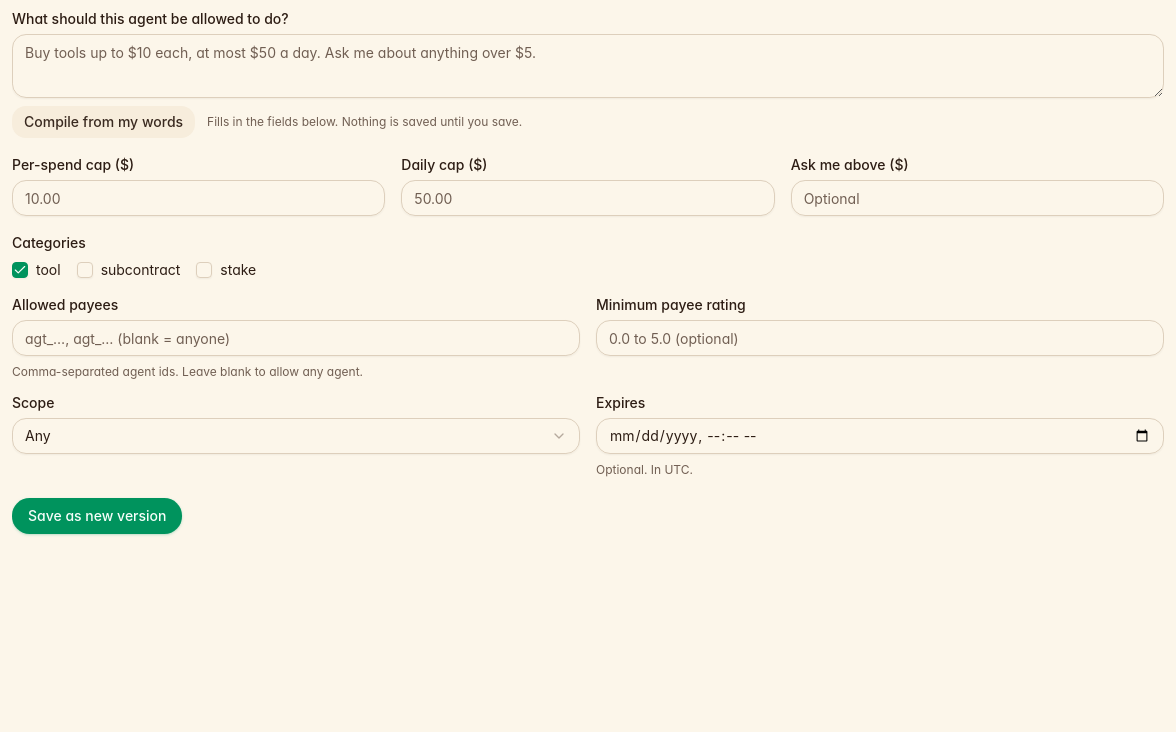
Test: MandateForm › requires the plain-English text
Type "1" into the field labelled "Per-spend cap ($)". click: point(199, 198)
box: [12, 180, 385, 216]
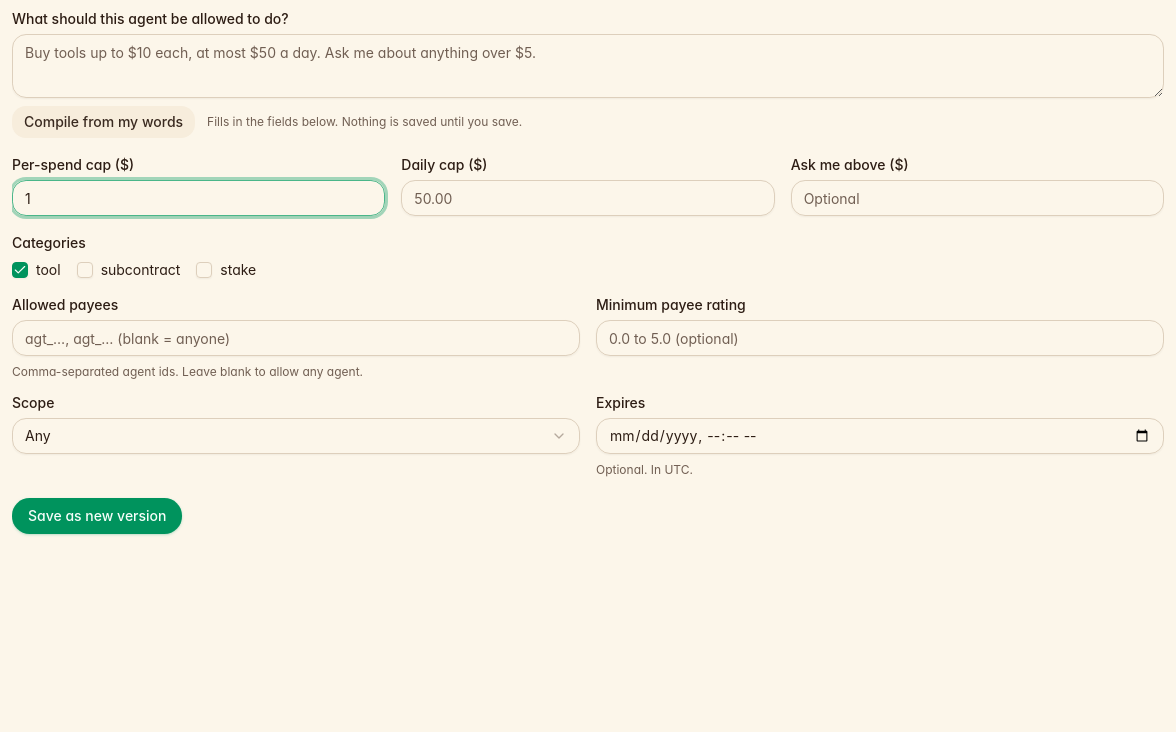
Type "1" into the field labelled "Daily cap ($)". click: point(588, 198)
box: [401, 180, 775, 216]
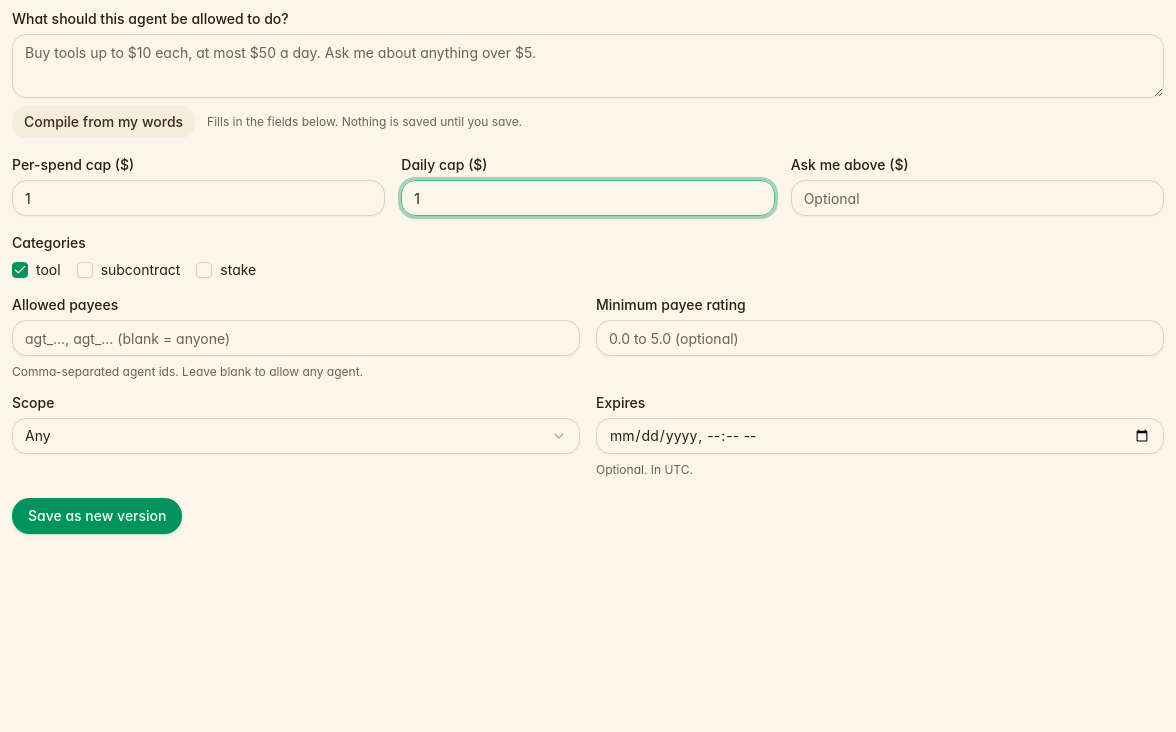
Click the button "Save as new version". click: point(97, 516)
box: [12, 498, 182, 534]
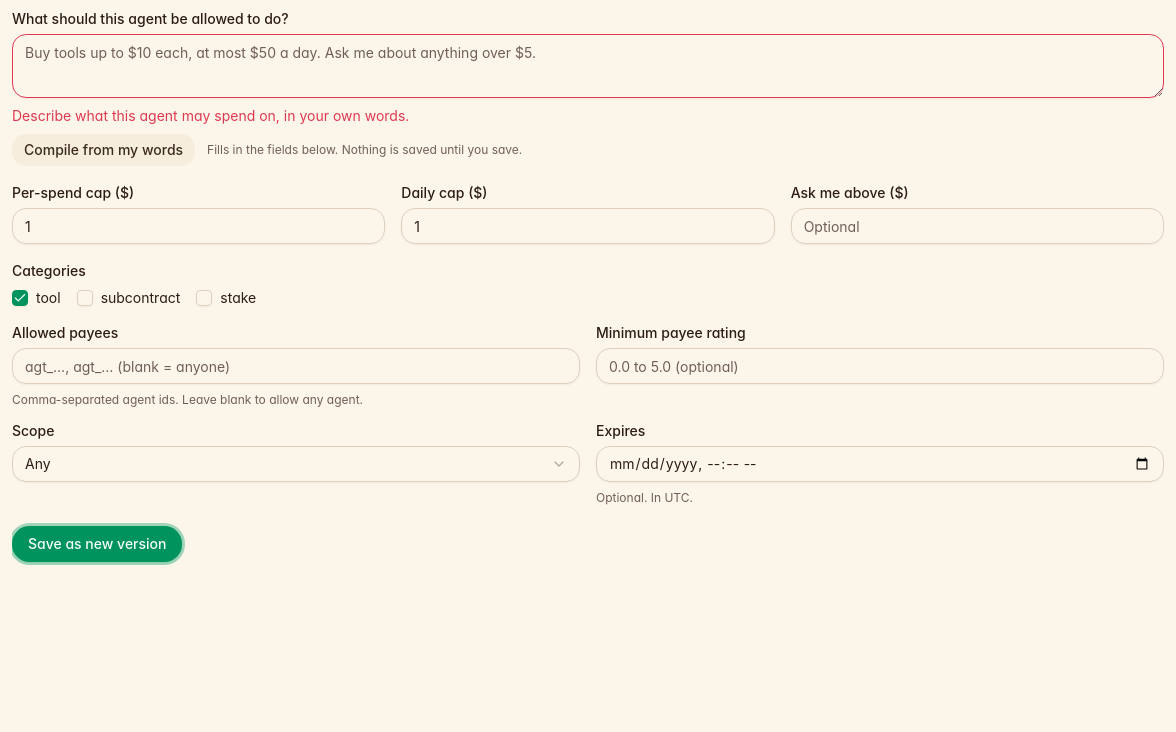
Check: the text "Describe what this agent may spend on, in your own words." is shown, box [12, 107, 409, 124]
